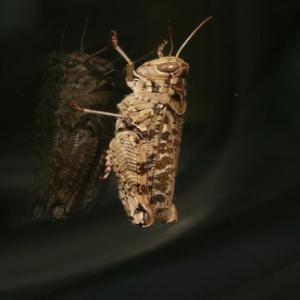locust: (90, 16, 229, 227)
